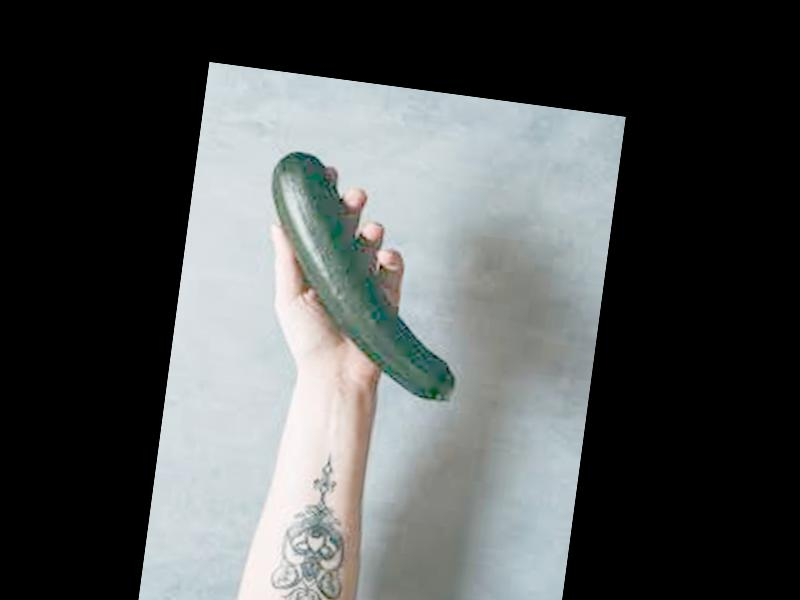Cucumber: (247, 148, 481, 401)
